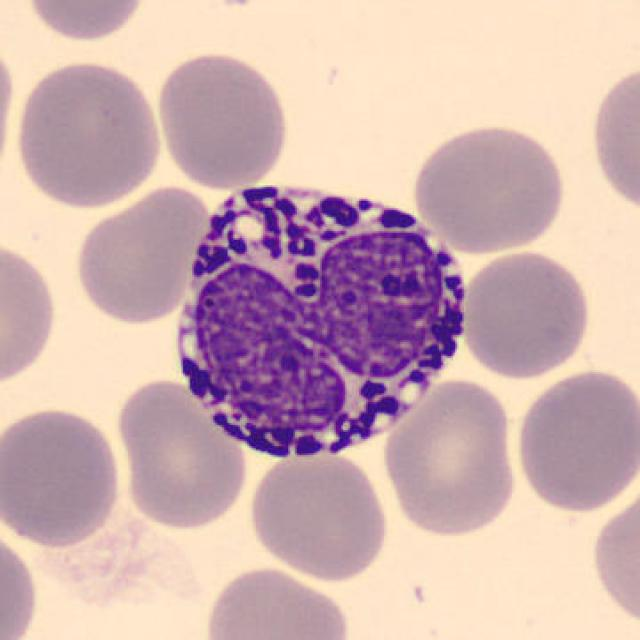Basophil: (155, 157, 489, 478)
Platelets: (206, 0, 265, 11)
RBC: (11, 56, 165, 212), (378, 376, 522, 541), (407, 118, 571, 256), (112, 374, 251, 532), (70, 182, 212, 326), (245, 446, 393, 584), (153, 48, 293, 192), (0, 402, 126, 552), (512, 365, 636, 517), (458, 247, 594, 381), (199, 562, 356, 640), (0, 233, 62, 391), (587, 57, 638, 222), (587, 478, 638, 631), (19, 0, 153, 44), (0, 522, 41, 640), (0, 35, 18, 192)
